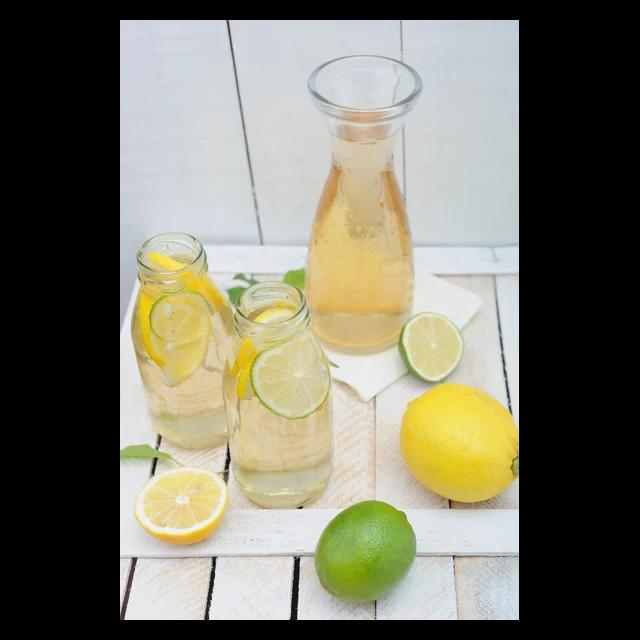lime: (303, 495, 428, 610)
